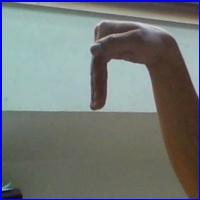del: (83, 18, 170, 119)
